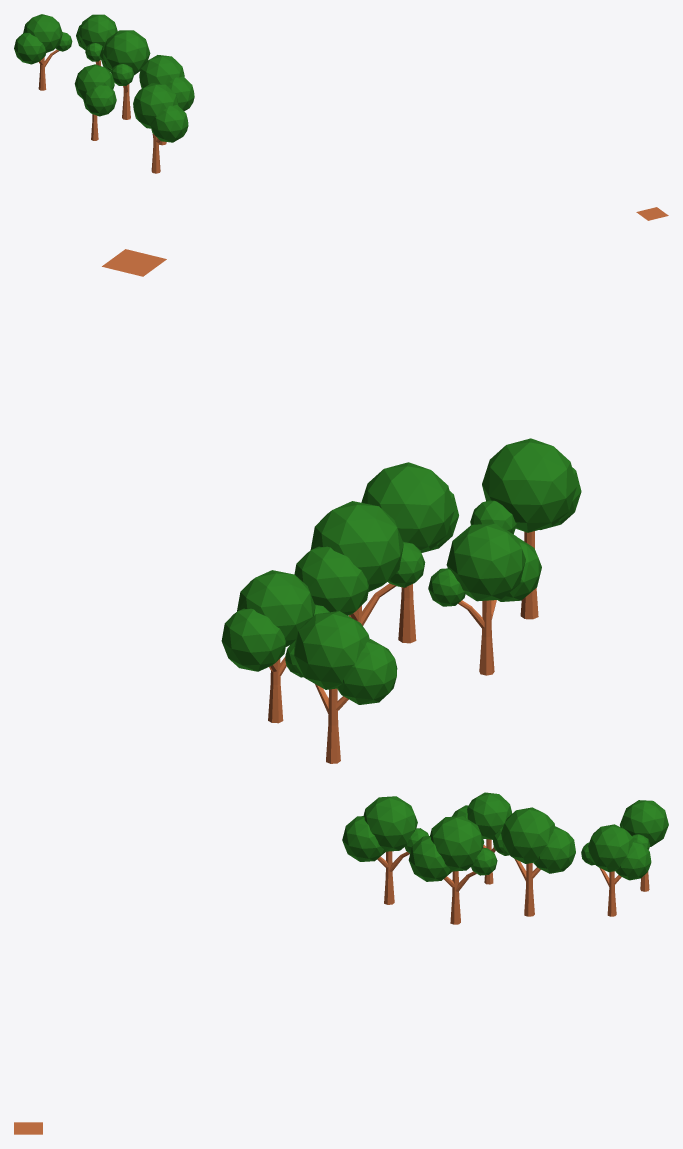
File: solution_5_green_cover.fbx
The picture shows the model from 3 angles, top to bottom: view 1: azimuth 30°, elevation 25°; view 2: azimuth 150°, elevation 25°; view 3: azimuth 270°, elevation 25°; orthographic projection. The views are drawn at different scales.
Parts seen in each view (by area): view 1: solution_5_green_cover; view 2: solution_5_green_cover; view 3: solution_5_green_cover.
Boxes of the visible parts, x1=… form: solution_5_green_cover: x1=14, y1=14, x2=668, y2=220; solution_5_green_cover: x1=102, y1=249, x2=581, y2=763; solution_5_green_cover: x1=14, y1=792, x2=668, y2=1134.
Size of the model in its own units: 3785 by 994 by 4504.
